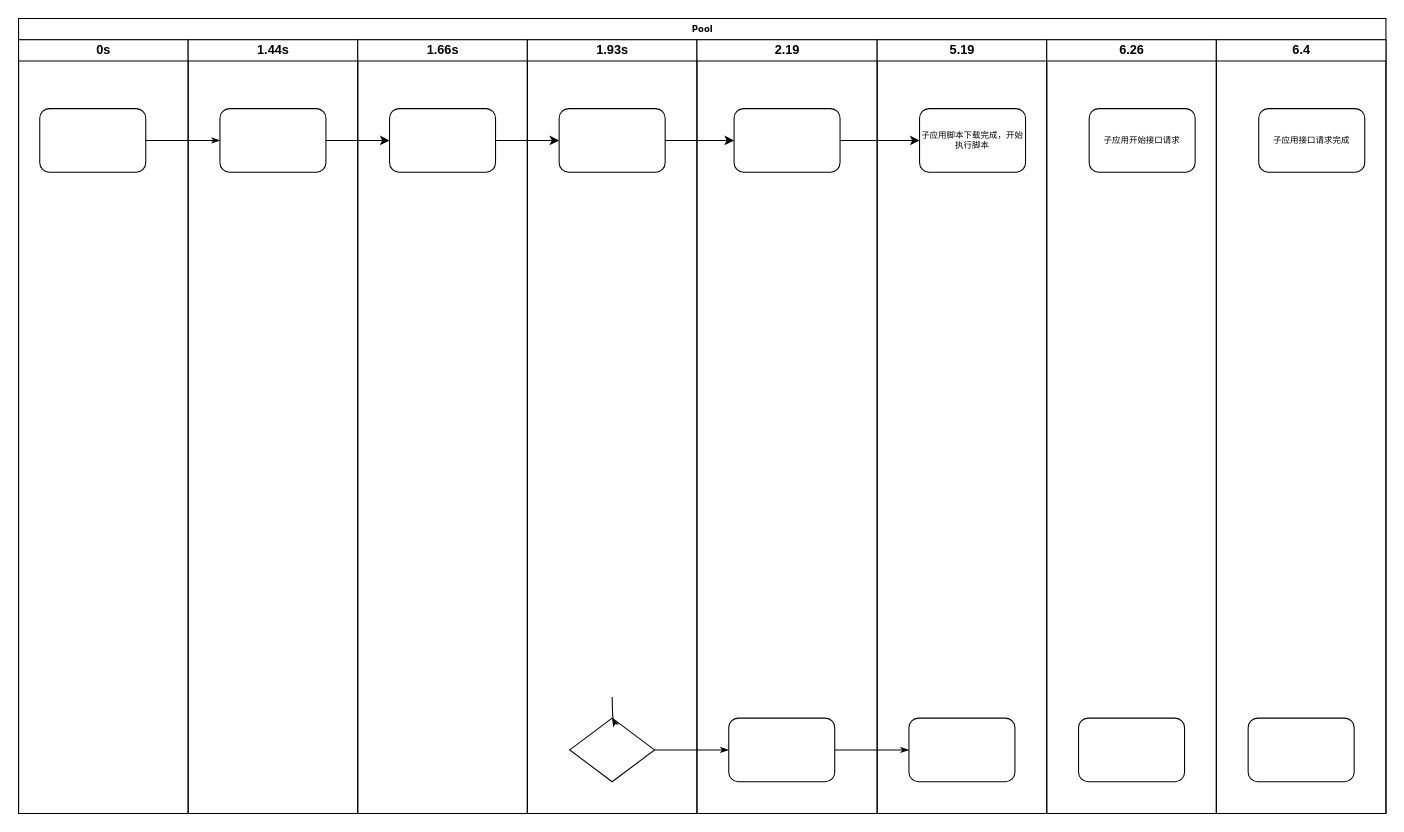
Image size: 1404x832. Some labels were removed from this diagram. The shapes that lost their labels are listed below. From the top down, each one's centre as x and y in pixels, then its label:
At point (92, 140): "开始页面请求".
At point (272, 140): "主应用脚本下载完成，开始执行脚本".
At point (442, 140): "开始请求子应用html".
At point (611, 140): "子应用html完成".
At point (786, 140): "子应用脚本开始请求".
